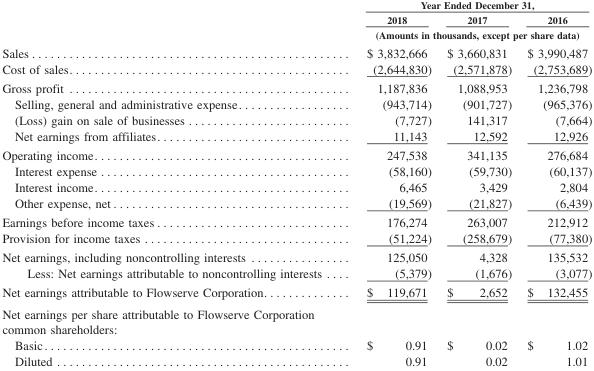table: (1, 0, 591, 367)
table column: (1, 0, 343, 367), (343, 0, 438, 367), (438, 0, 518, 367), (518, 0, 591, 367)
table column header: (1, 0, 591, 43)
table projected row header: (1, 303, 591, 337)
table row: (1, 303, 591, 337), (1, 283, 591, 303), (1, 43, 591, 61), (1, 61, 591, 79), (1, 128, 591, 146), (1, 195, 591, 213), (1, 230, 591, 248), (1, 265, 591, 283), (1, 79, 591, 96), (1, 146, 591, 163), (1, 213, 591, 230), (1, 248, 591, 265), (1, 27, 591, 43), (1, 96, 591, 112), (1, 112, 591, 128), (1, 163, 591, 179), (1, 179, 591, 195), (1, 337, 591, 353), (1, 12, 591, 27), (1, 353, 591, 367), (1, 0, 591, 12)
table spanning cell: (343, 27, 591, 43), (343, 0, 591, 12)
